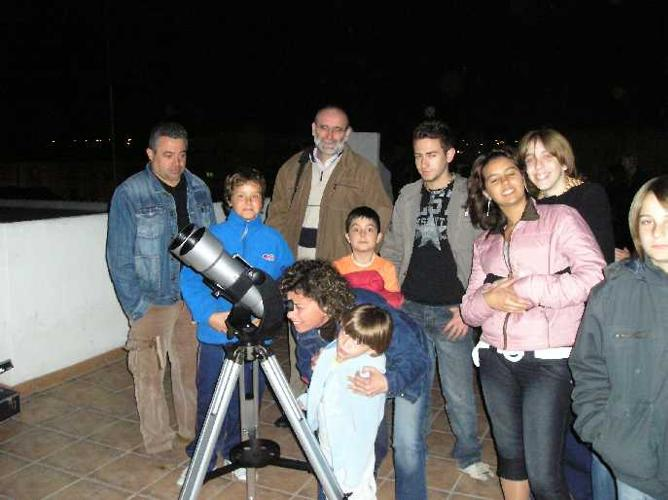person: (281, 260, 438, 500)
